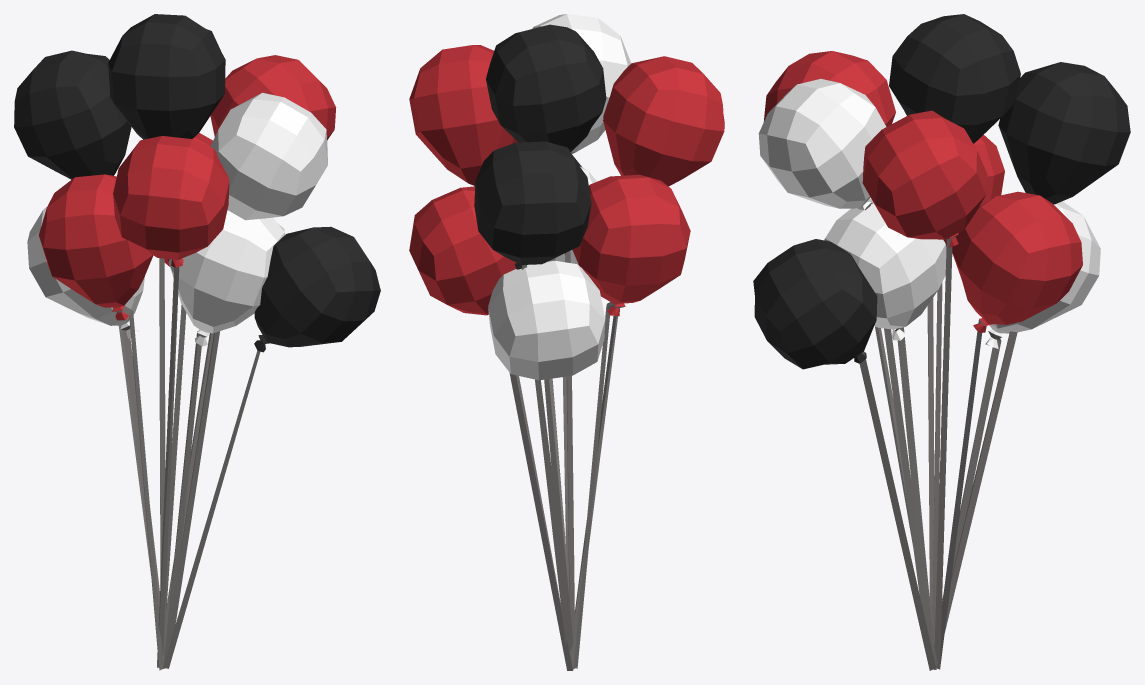
Rendered from props_balloons-bunch-more.fbx.
3 renders of one model, left to right at view 1: azimuth 30°, elevation 25°; view 2: azimuth 150°, elevation 25°; view 3: azimuth 270°, elevation 25°, orthographic. The views are drawn at different scales.
Parts seen in each view (by area): view 1: props_balloons_bunch_more; view 2: props_balloons_bunch_more; view 3: props_balloons_bunch_more.
Part boxes in pixels (x1,y1,x2,y2): props_balloons_bunch_more: [14, 14, 380, 670]; props_balloons_bunch_more: [409, 14, 724, 670]; props_balloons_bunch_more: [753, 14, 1130, 670].
Bounding box in the file's own units: 89.83 × 200 × 104.
